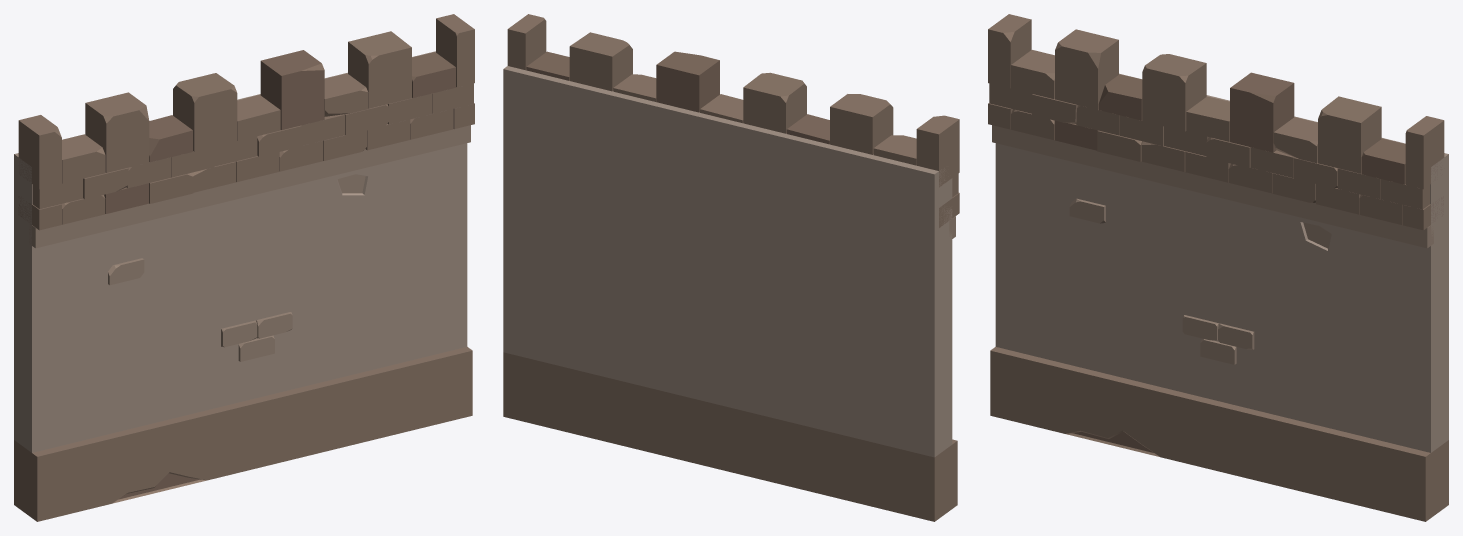
The model's file is Wall_01.fbx.
3 renders of one model, left to right at view 1: azimuth 30°, elevation 25°; view 2: azimuth 150°, elevation 25°; view 3: azimuth 330°, elevation 25°, orthographic.
Visible parts, largest first — view 1: Wall_01; view 2: Wall_01; view 3: Wall_01.
Boxes of the visible parts, left/top/right/bottom form: Wall_01: left=14, top=14, right=474, bottom=521; Wall_01: left=503, top=14, right=959, bottom=521; Wall_01: left=988, top=14, right=1448, bottom=521.
Size of the model in its own units: 700 by 598 by 72.44.
